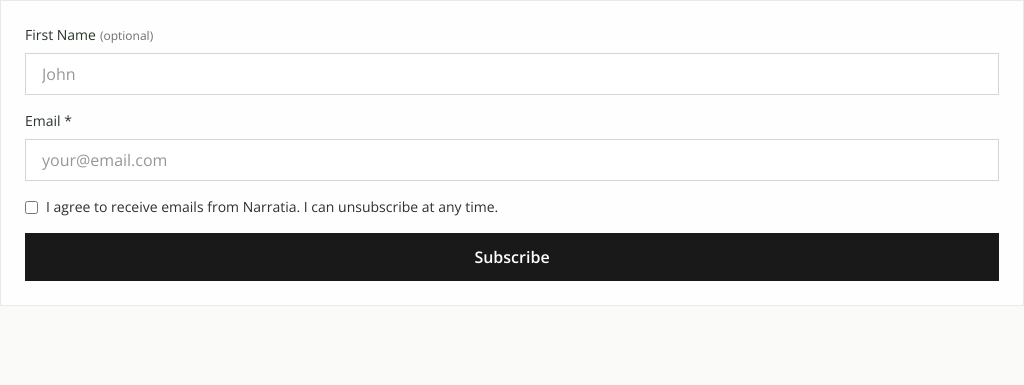
Test case: EmailSignupForm › Error Handling › should display error message on API failure
// Use valid email format to bypass HTML5 validation and test API error handling
Step 1. Type "test@example.com" into the field labelled "Email *" → coordinates (512, 160), box [25,139,999,181]
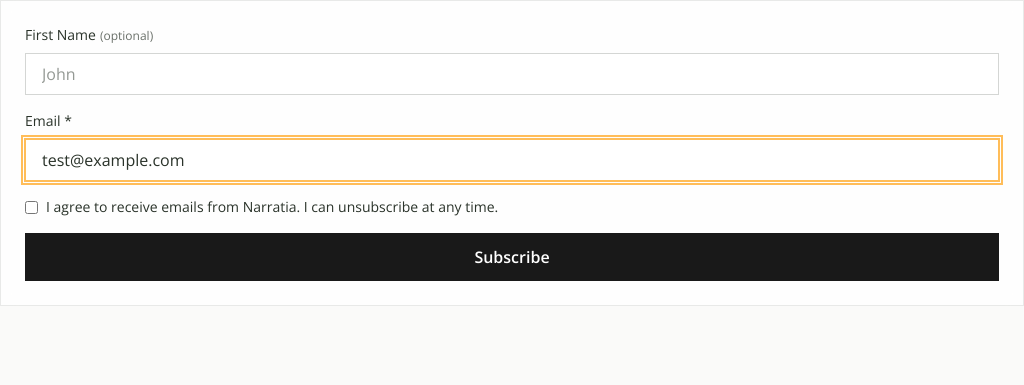
Step 2. Click the checkbox → coordinates (32, 208), box [25,201,38,214]
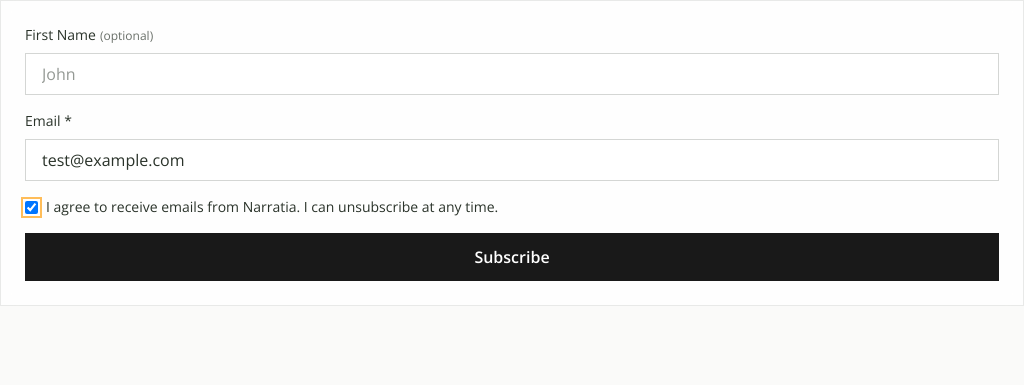
Step 3. Click the button "Subscribe" → coordinates (512, 257), box [25,233,999,281]
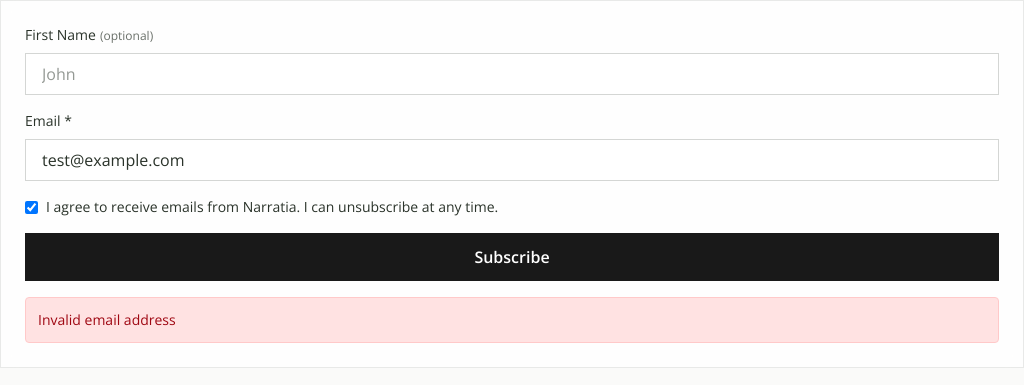
Result: the text "Invalid email address" is shown at [25,297,999,343]
